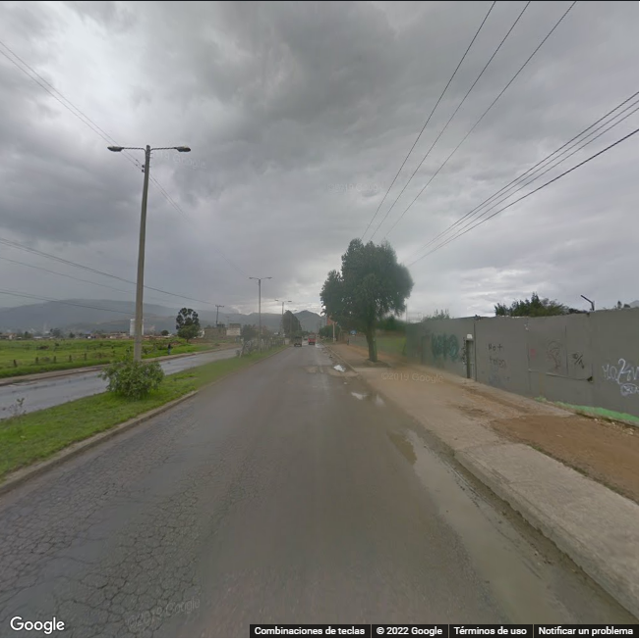D20: (88, 492, 184, 638), (1, 457, 74, 594)
